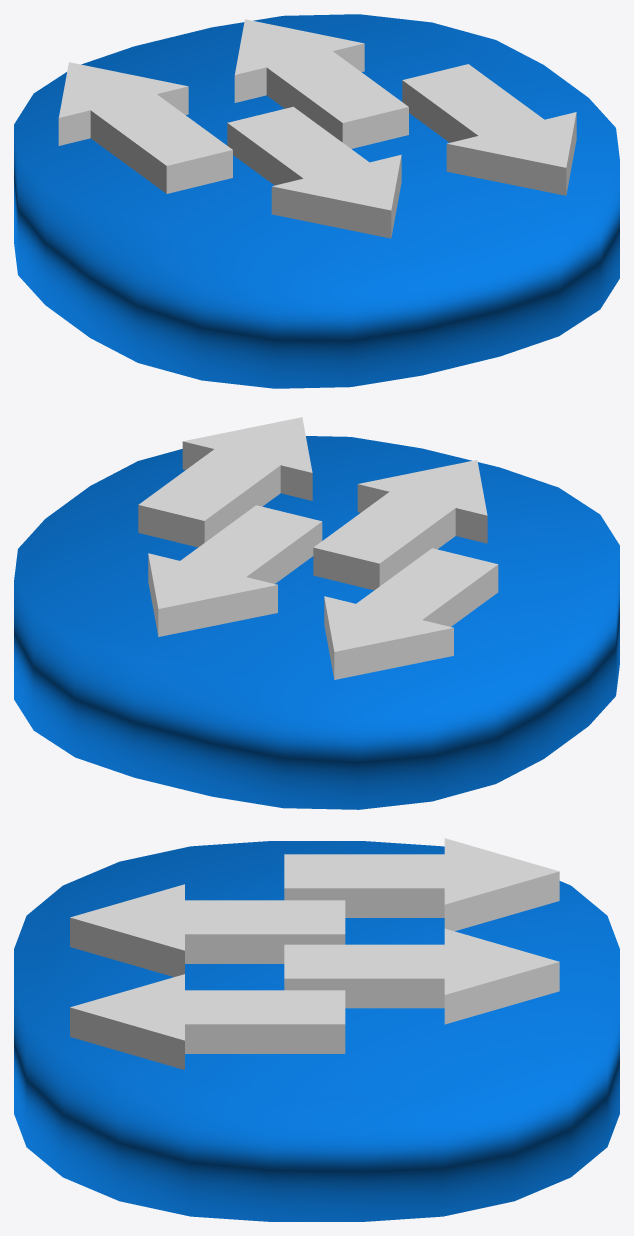
File: spine.glb
3 views of the same model, one above another, from view 1: azimuth 30°, elevation 25°; view 2: azimuth 150°, elevation 25°; view 3: azimuth 270°, elevation 25° (orthographic). The views are drawn at different scales.
Parts seen in each view (by area): view 1: Cube, Cube.003, Cube.002, Cube.001, Cube.004; view 2: Cube, Cube.003, Cube.004, Cube.002, Cube.001; view 3: Cube, Cube.001, Cube.004, Cube.003, Cube.002.
Boxes of the visible parts, bbox=[...] form: Cube: bbox=[14, 14, 619, 388]; Cube.003: bbox=[58, 62, 232, 193]; Cube.002: bbox=[227, 106, 401, 238]; Cube.001: bbox=[402, 64, 576, 195]; Cube.004: bbox=[234, 19, 408, 148]; Cube: bbox=[14, 436, 619, 809]; Cube.003: bbox=[324, 548, 498, 679]; Cube.004: bbox=[148, 505, 322, 636]; Cube.002: bbox=[313, 460, 487, 590]; Cube.001: bbox=[138, 417, 312, 547]; Cube: bbox=[14, 841, 619, 1221]; Cube.001: bbox=[70, 974, 345, 1069]; Cube.004: bbox=[284, 928, 559, 1024]; Cube.003: bbox=[284, 838, 559, 931]; Cube.002: bbox=[70, 884, 345, 976].
Size of the model in its own units: 2 by 0.5618 by 2.
